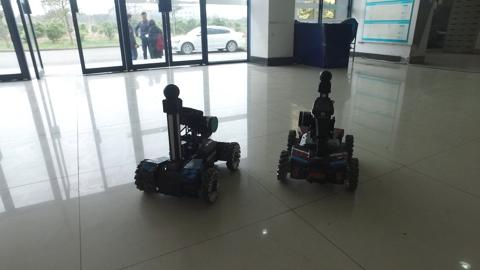chariot: (124, 76, 248, 213), (263, 55, 373, 199)
